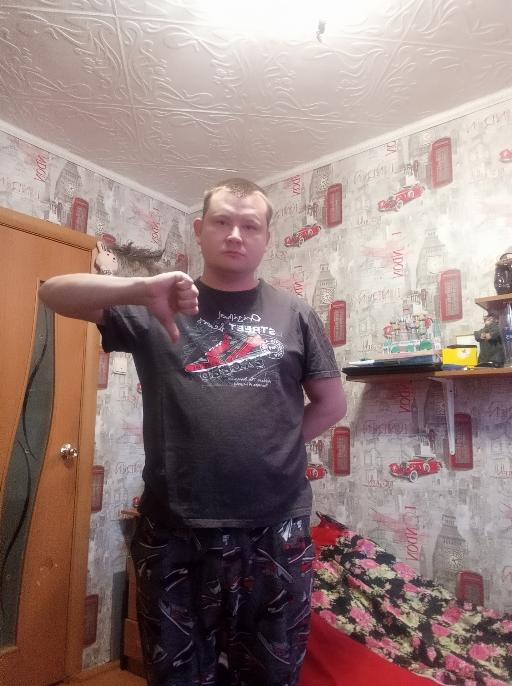dislike: (143, 267, 199, 344)
